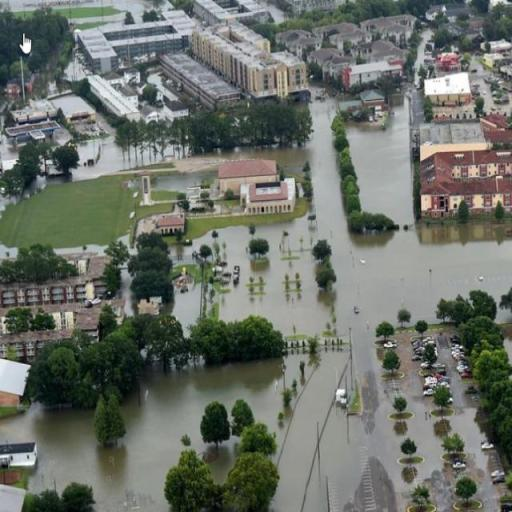flood: (0, 98, 512, 512), (72, 129, 124, 180), (191, 146, 307, 166), (171, 284, 200, 332), (147, 72, 178, 100), (1, 134, 25, 166)
house: (206, 33, 304, 104), (0, 252, 117, 308), (421, 146, 510, 218), (161, 57, 239, 113), (76, 24, 125, 76), (217, 158, 283, 194), (84, 76, 136, 120), (240, 183, 295, 218), (0, 356, 30, 418), (341, 60, 404, 86), (422, 73, 470, 106), (479, 113, 512, 151), (0, 442, 38, 470), (331, 30, 375, 52), (0, 482, 30, 510), (359, 88, 388, 116), (153, 212, 188, 235), (382, 15, 414, 40), (326, 58, 344, 84), (311, 49, 333, 70), (439, 52, 461, 72), (484, 53, 504, 69), (492, 39, 512, 55)
